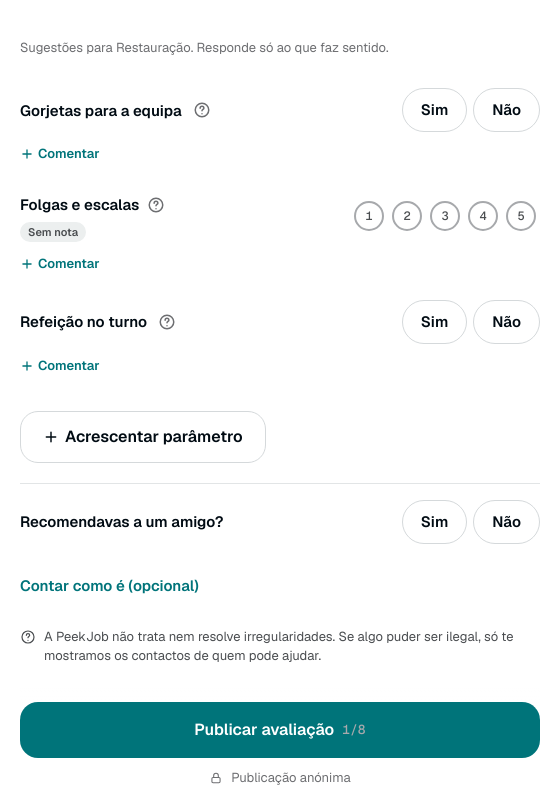
Test: Avaliar · notas e publicar (telemóvel, passo 2 de 3) › comentário opcional: fechado por omissão; abre com etiquetas e contador
(page scrolled)
Click the button "Contar como é (opcional)": (109, 586) [20,564,199,608]
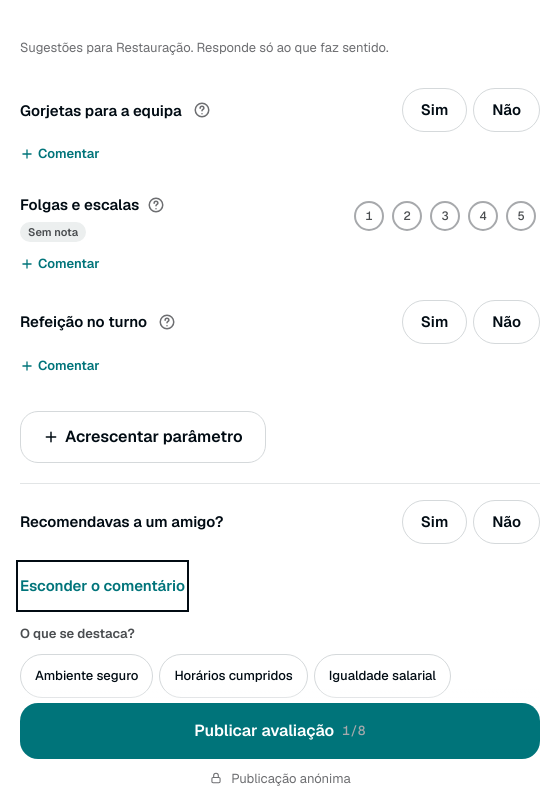
Result: the element named "O que se destaca" is shown at [20,654,451,748]
